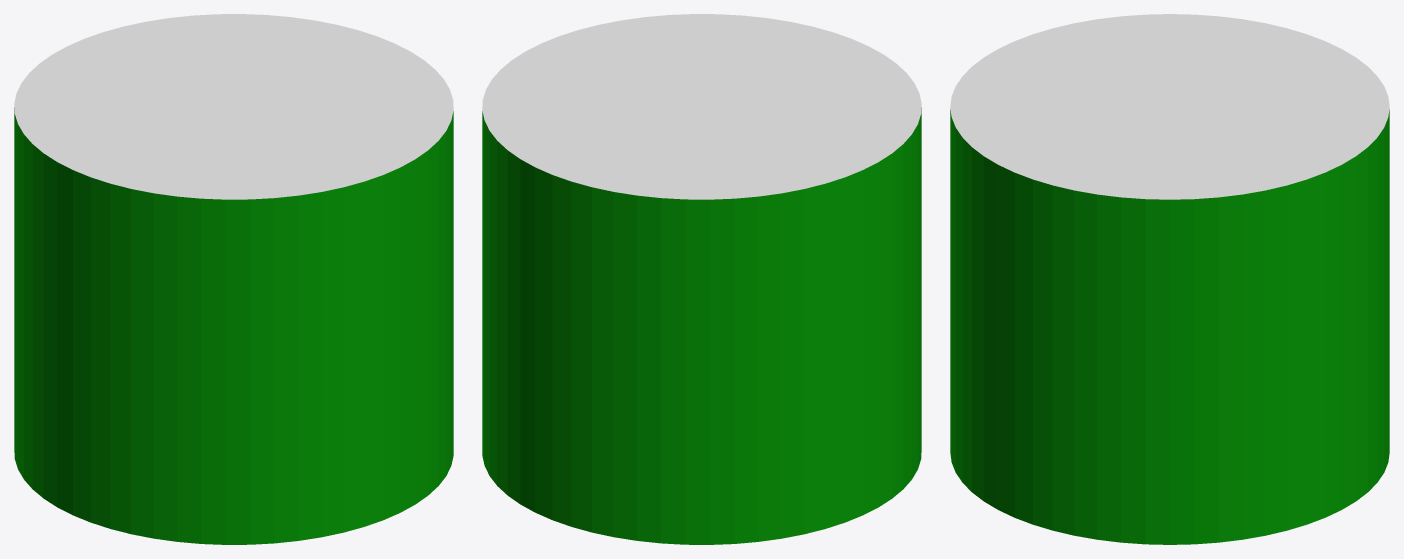
The model's file is sosstark_senap.dae.
3 renders of one model, left to right at view 1: azimuth 30°, elevation 25°; view 2: azimuth 150°, elevation 25°; view 3: azimuth 270°, elevation 25°, orthographic.
Visible parts, largest first — view 1: sosstark_senap; view 2: sosstark_senap; view 3: sosstark_senap.
Part boxes in pixels (x1,y1,x2,y2): sosstark_senap: (14, 14, 453, 544); sosstark_senap: (482, 14, 921, 544); sosstark_senap: (950, 14, 1389, 544).
Size of the model in its own units: 150 by 150 by 130.
